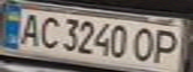0: (109, 22, 133, 60)
2: (75, 18, 96, 55)
3: (57, 16, 81, 52)
4: (93, 20, 112, 56)
A: (15, 10, 45, 47)
C: (33, 14, 63, 50)
O: (130, 25, 160, 63)
P: (148, 27, 184, 66)
